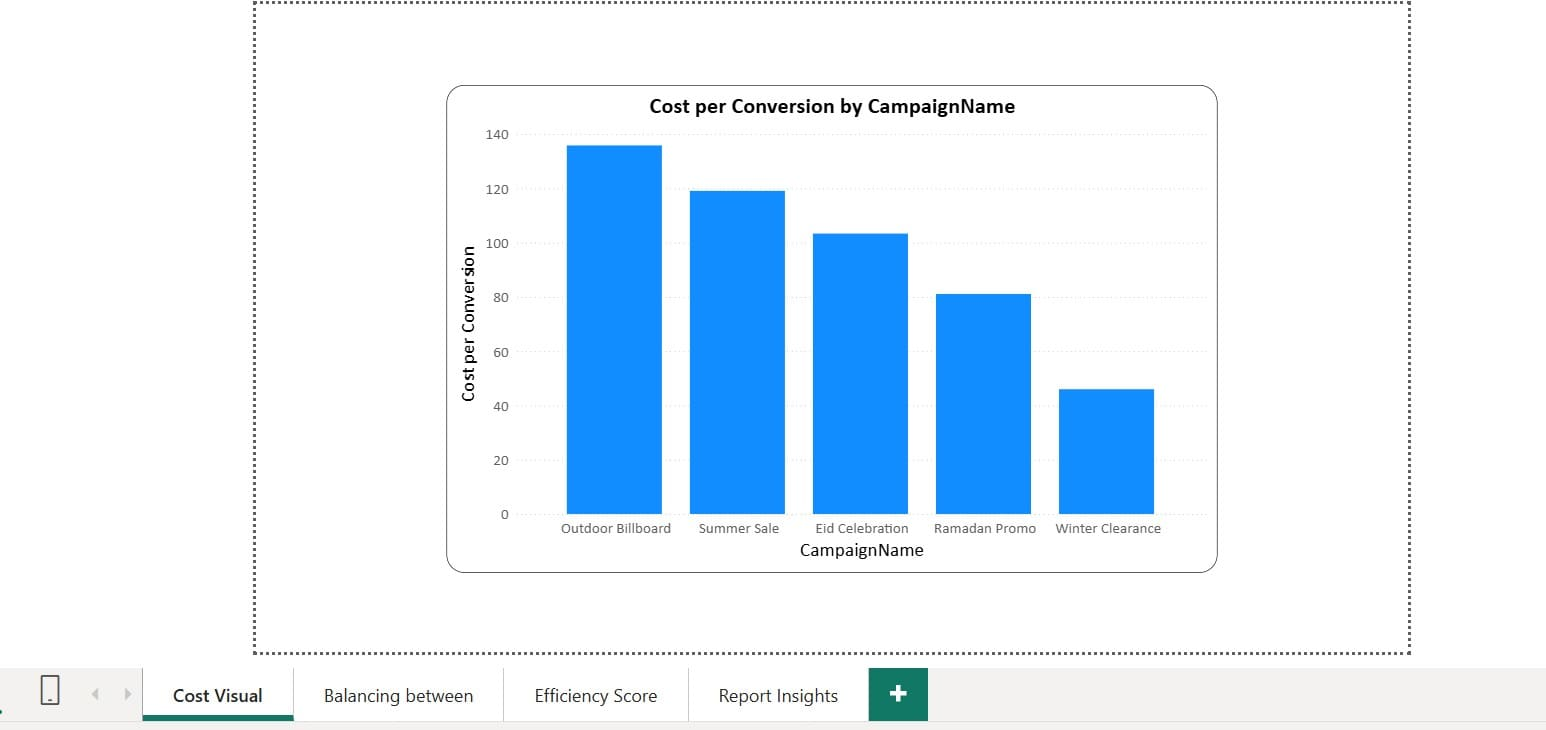

Layout of this report page (visuals, bound fields, positions):
{"tool":"powerbi","page":{"name":"Cost Visual","canvas":[1280,720],"ordinal":0},"visuals":[{"type":"clusteredColumnChart","fields":{"Y":["Interactions.Cost per Conversion"],"Category":["Campaigns.CampaignName"]},"box":[211.7,90,856.7,541.7],"z":0}]}

Visuals, with their boxes on the page's 1280x720 design canvas (x1, y1, x2, y2). These are canvas units, not pixel positions in the 1546x730 screenshot, which may show the page scaled, cropped or inside an application window:
clusteredColumnChart - Interactions.Cost per Conversion x Campaigns.CampaignName: 212:90:1068:632
